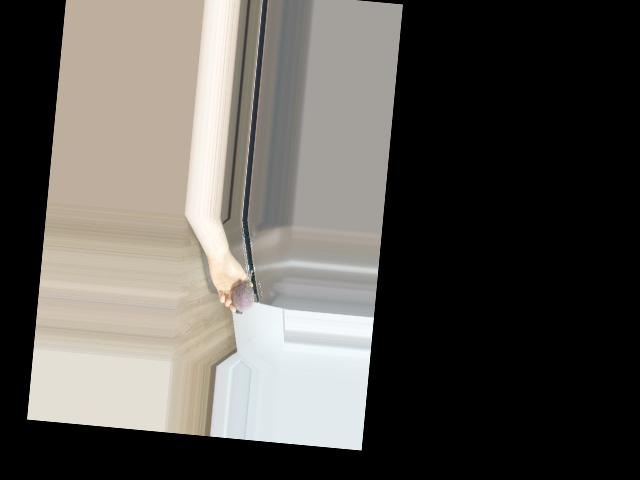beet: (230, 269, 256, 315)
